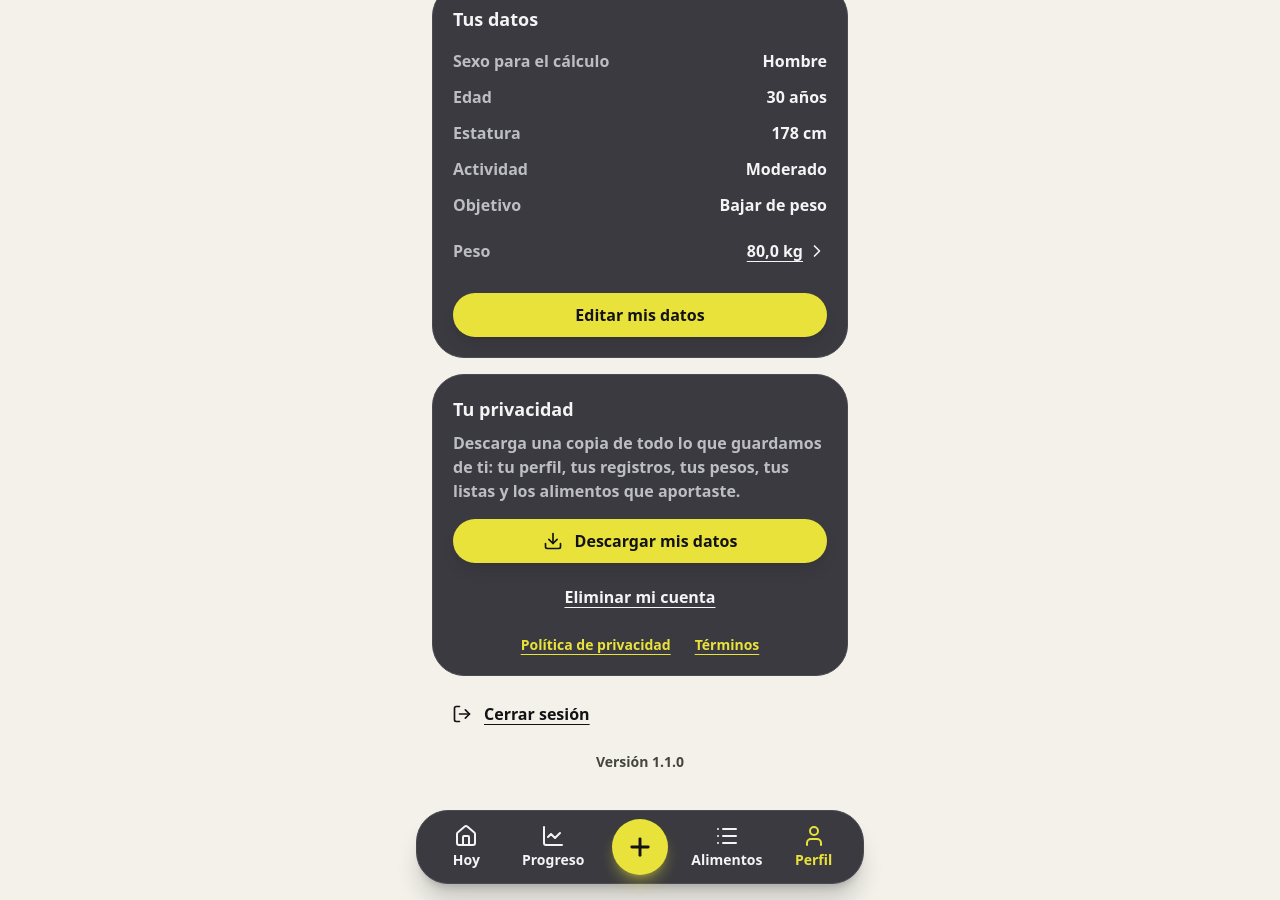
Scenario: ProfilePage › delete account (HU-16 CA2) › deletes the account, signs out locally and says goodbye
(page scrolled)
Click the button "Eliminar mi cuenta".
click(640, 597)  # box [453,575,827,619]
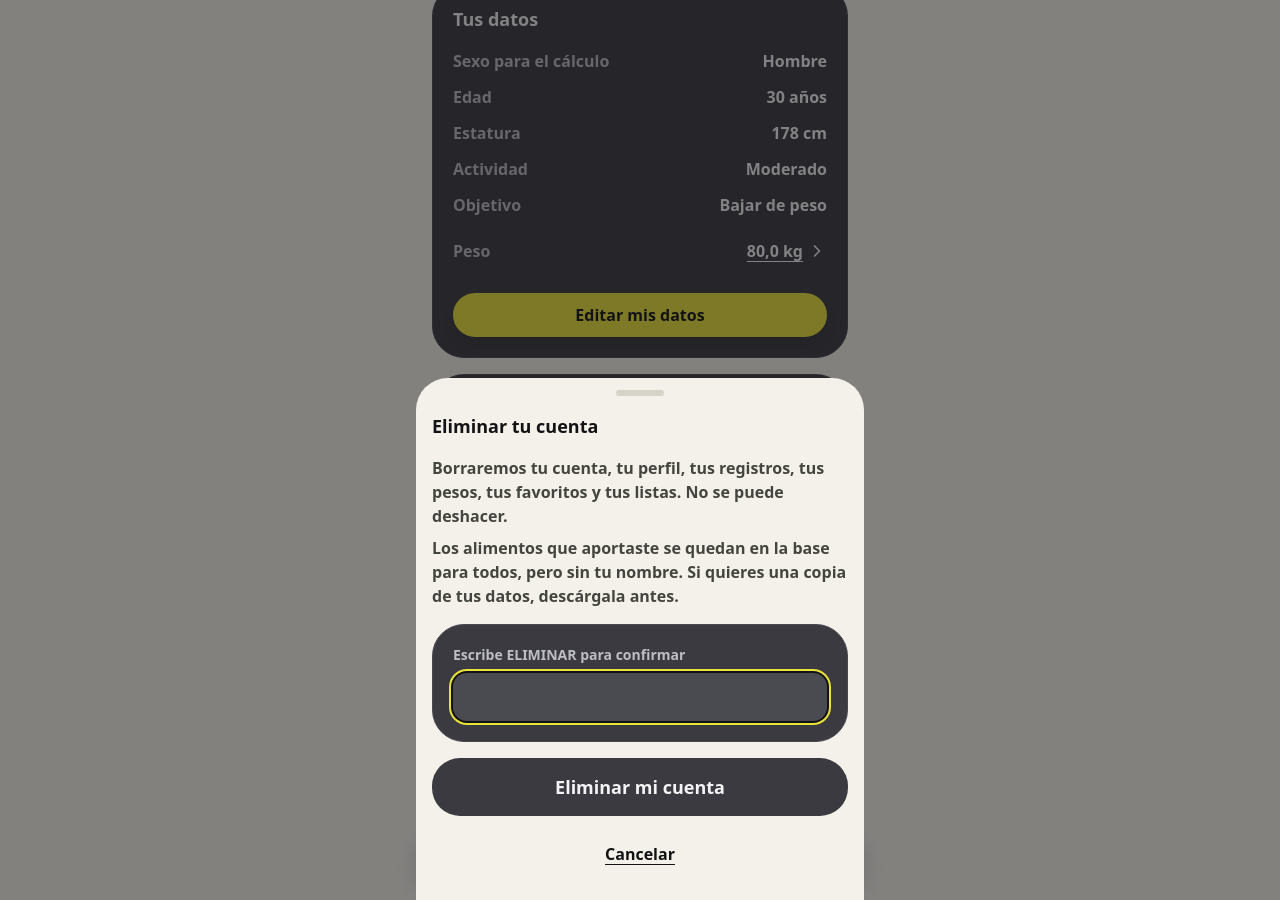
Type "eliminar " into the field labelled "Escribe ELIMINAR para confirmar".
click(640, 697); type("eliminar ")  # box [453,673,827,721]
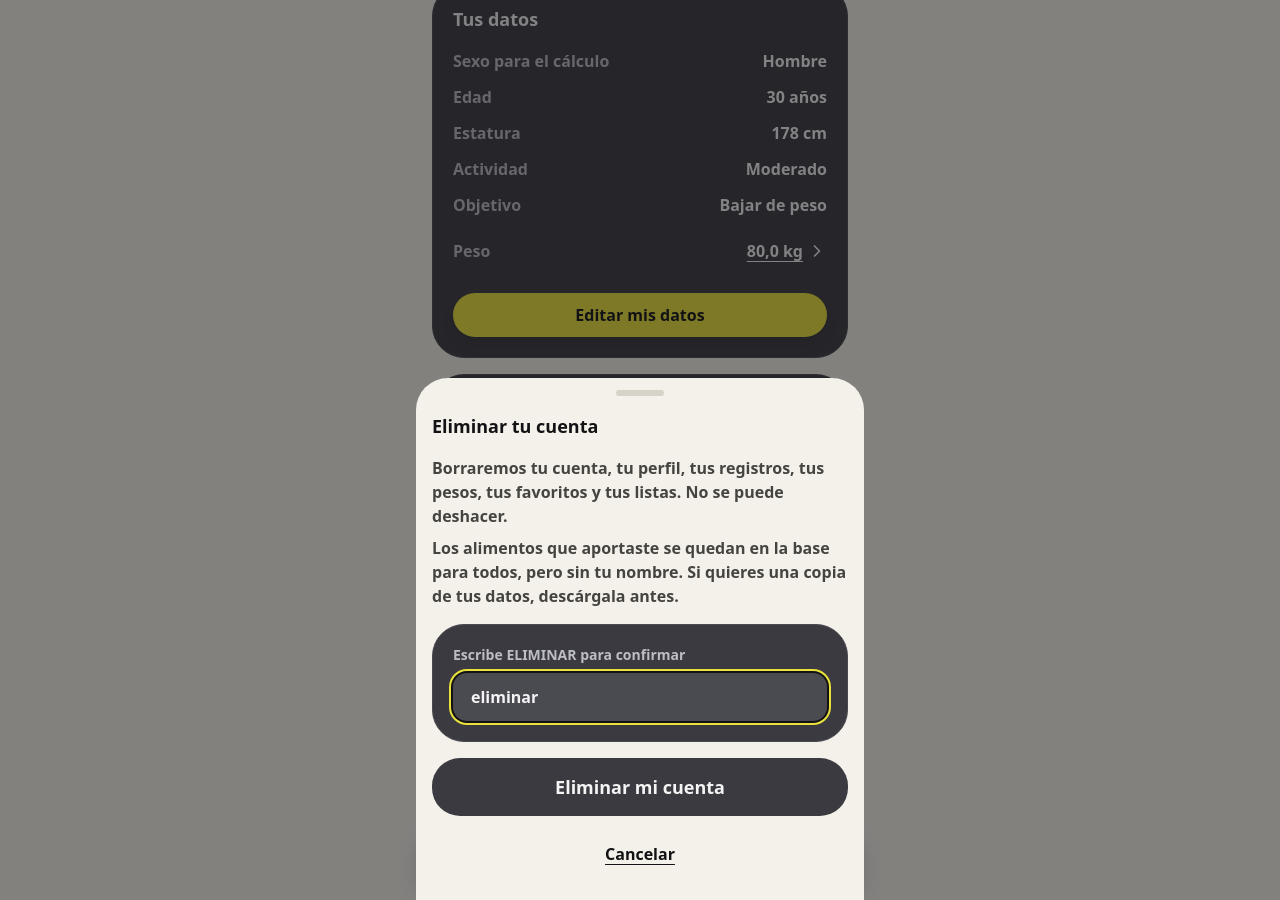
Click the button "Eliminar mi cuenta" below "Escribe ELIMINAR para confirmar".
click(640, 787)  # box [432,758,848,816]
(page scrolled)
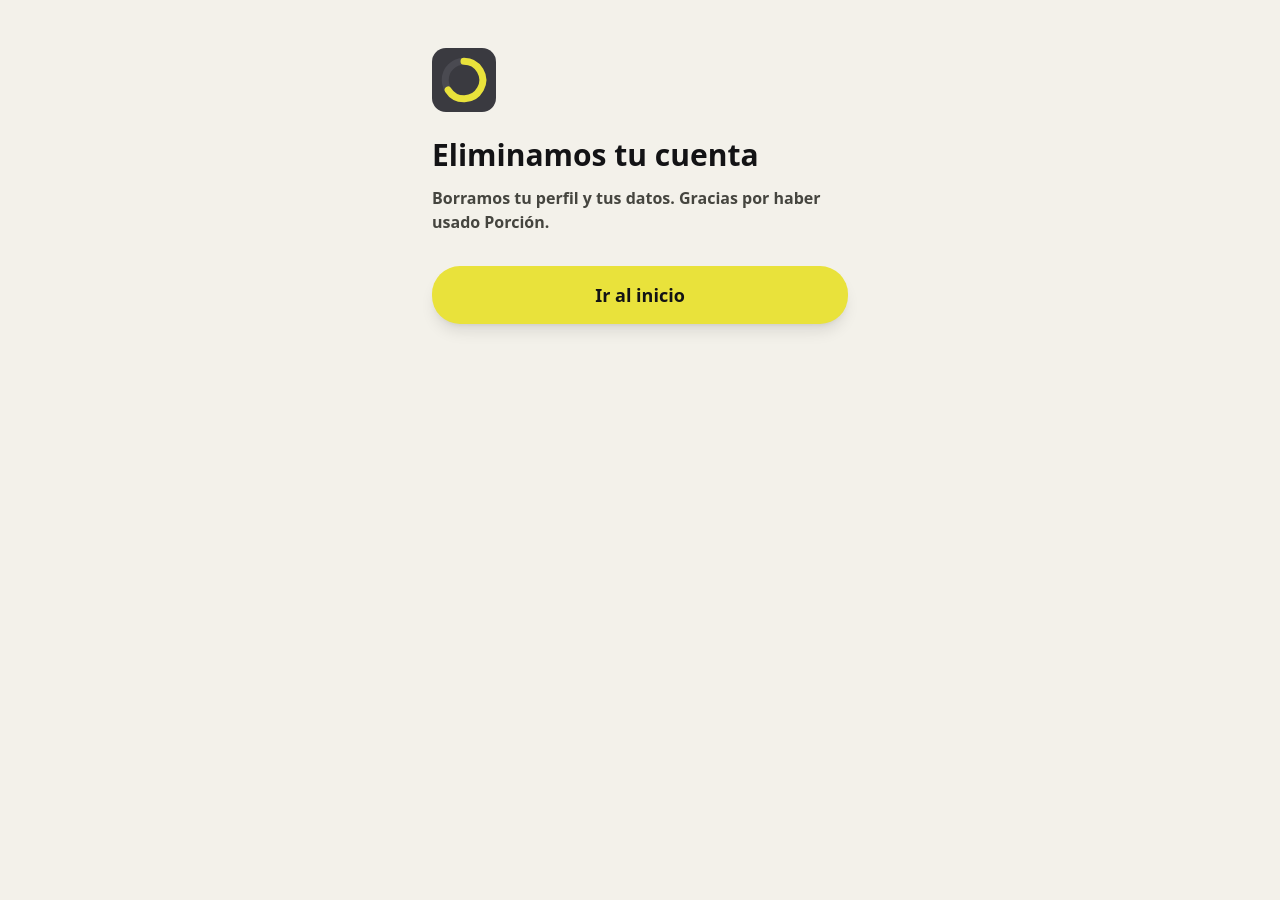
Expected: the heading "Eliminamos tu cuenta" is shown, [432,134,758,175]
